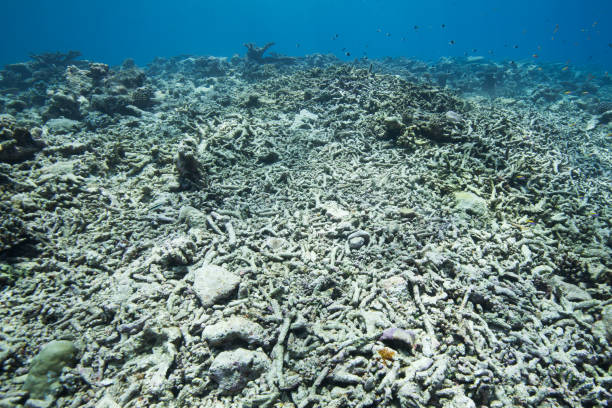dead: (209, 348, 271, 397)
